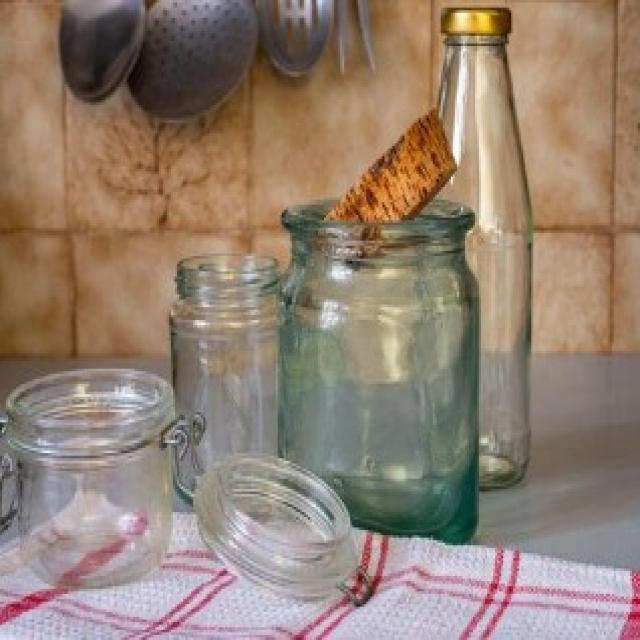electronic: (0, 367, 372, 605), (279, 192, 481, 556), (430, 0, 534, 500), (162, 252, 309, 504)
